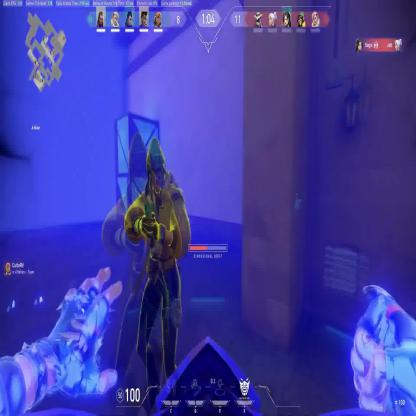enemy: (124, 136, 192, 413)
enemy_head: (146, 137, 168, 193)
